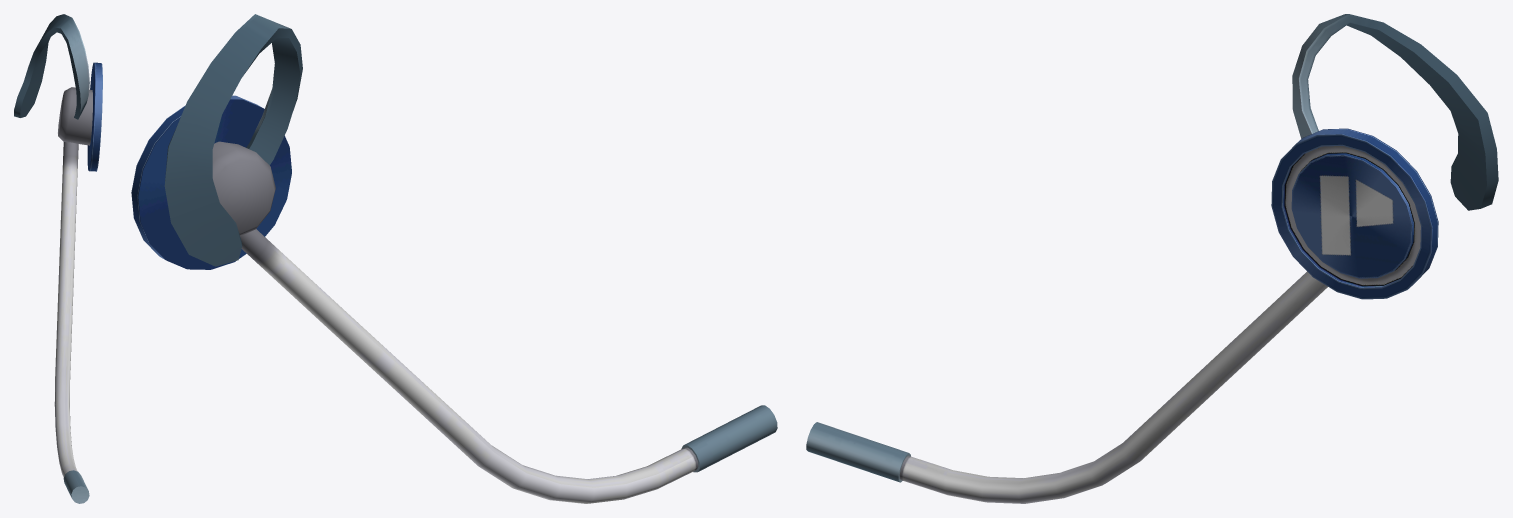
The model's file is EntrainingIntercomRei.fbx.
The picture shows the model from 3 angles, left to right: view 1: azimuth 30°, elevation 25°; view 2: azimuth 150°, elevation 25°; view 3: azimuth 270°, elevation 25°; orthographic projection. The views are drawn at different scales.
Visible parts, largest first — view 1: EntrainingIntercomRei; view 2: EntrainingIntercomRei; view 3: EntrainingIntercomRei.
Part boxes in pixels (<box>): EntrainingIntercomRei: <box>14,14,102,503</box>; EntrainingIntercomRei: <box>131,14,777,503</box>; EntrainingIntercomRei: <box>806,14,1498,503</box>.
Bounding box in the file's own units: 0.0473 × 0.0746 × 0.0807.
Materials: 1 (1 with a texture image).
